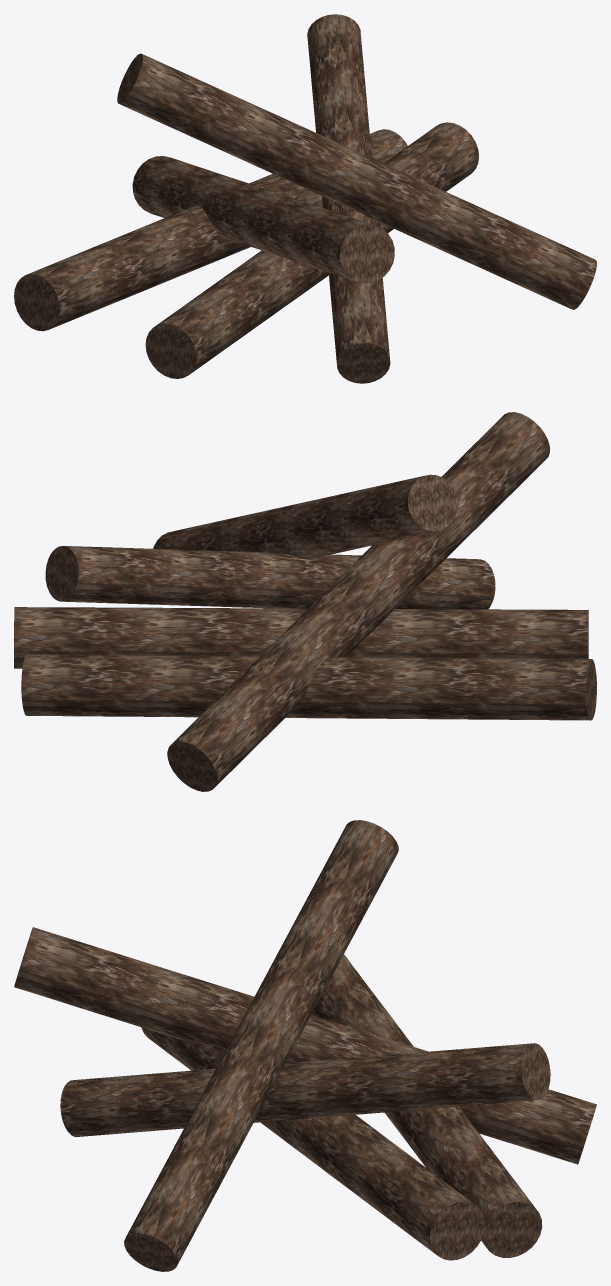
The model's file is Amazonie_Feu.fbx.
3 views of the same model, one above another, from view 1: azimuth 30°, elevation 25°; view 2: azimuth 150°, elevation 25°; view 3: azimuth 270°, elevation 25° (orthographic). The views are drawn at different scales.
Visible parts, largest first — view 1: Cylinder.001; view 2: Cylinder.001; view 3: Cylinder.001.
Part boxes in pixels (x1,y1,x2,y2): Cylinder.001: (14, 14, 596, 383); Cylinder.001: (14, 412, 596, 791); Cylinder.001: (14, 820, 596, 1271).
Size of the model in its own units: 924 by 453 by 860.
